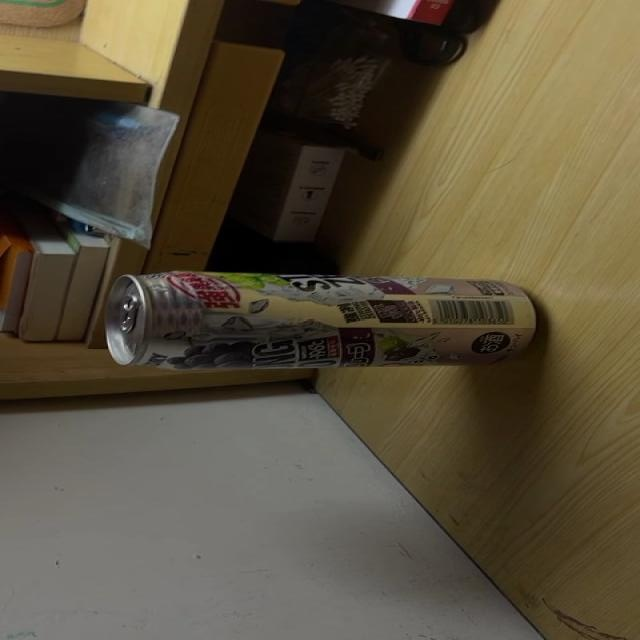Liquor: (106, 271, 538, 372)
